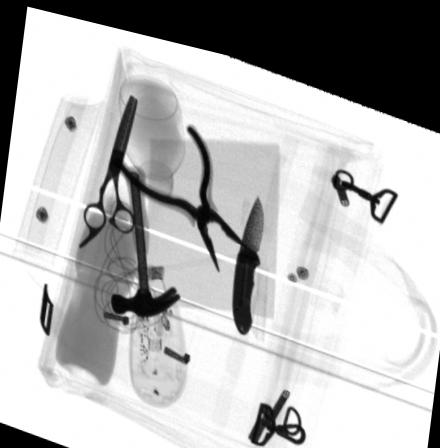Hammer: (107, 158, 179, 311)
Knife: (229, 181, 264, 322)
Pliers: (112, 114, 242, 261)
Scissors: (76, 88, 136, 244)
